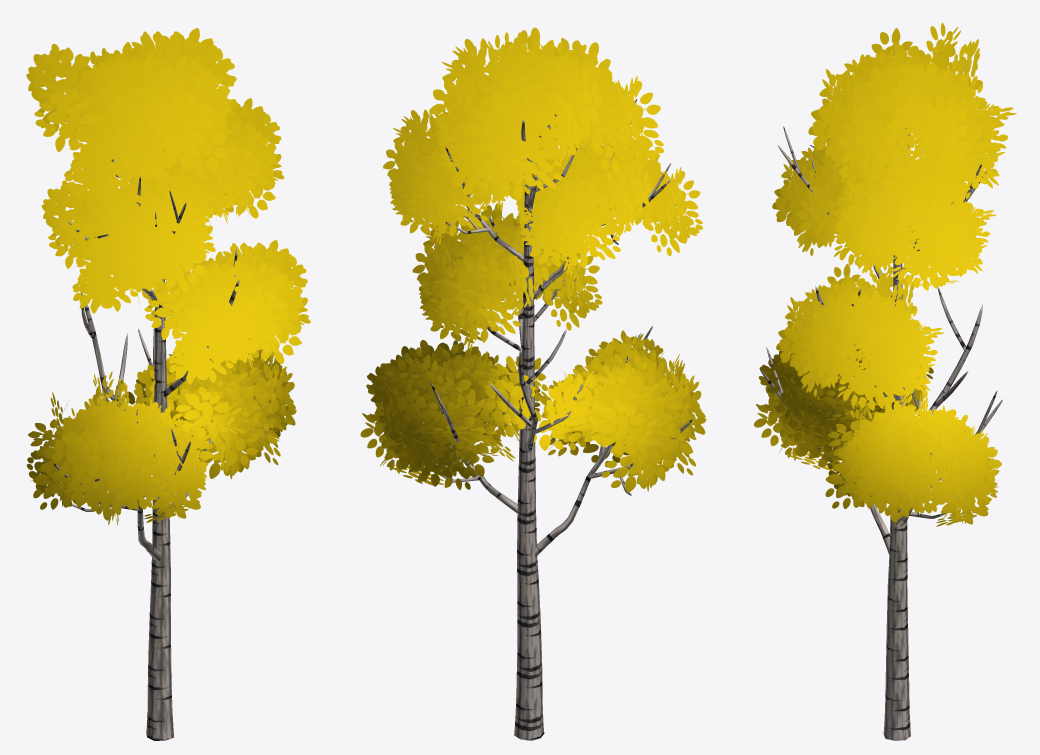
Rendered from BirchTree_2.glb.
3 renders of one model, left to right at view 1: azimuth 30°, elevation 25°; view 2: azimuth 150°, elevation 25°; view 3: azimuth 270°, elevation 25°, orthographic. The views are drawn at different scales.
Visible parts, largest first — view 1: BirchTree_2; view 2: BirchTree_2; view 3: BirchTree_2.
Part boxes in pixels (bbox=[...]): BirchTree_2: bbox=[26, 28, 310, 740]; BirchTree_2: bbox=[360, 27, 706, 740]; BirchTree_2: bbox=[754, 22, 1016, 740].
Bounding box in the file's own units: 3.35 × 7.57 × 2.81.
2 materials, 2 textured.
